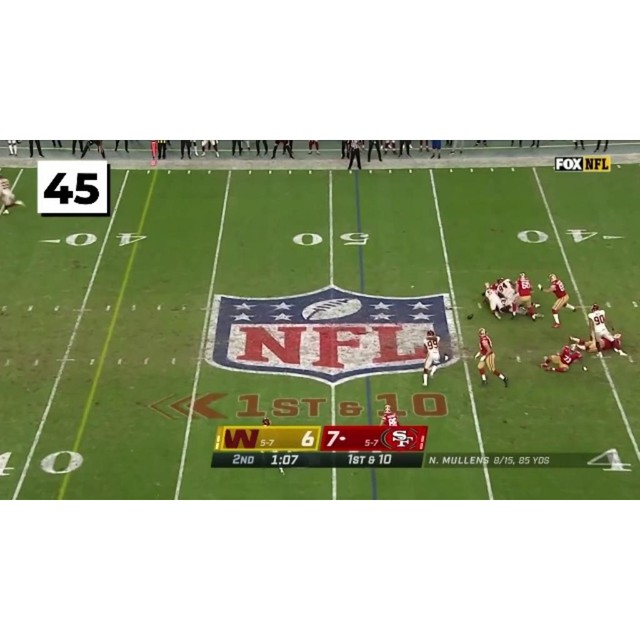american-football-player: (538, 272, 578, 328), (475, 328, 509, 388), (572, 334, 632, 359), (586, 302, 619, 345), (540, 344, 585, 374), (513, 271, 539, 321), (421, 328, 442, 388), (0, 173, 26, 216), (481, 280, 504, 320), (380, 404, 400, 426)
